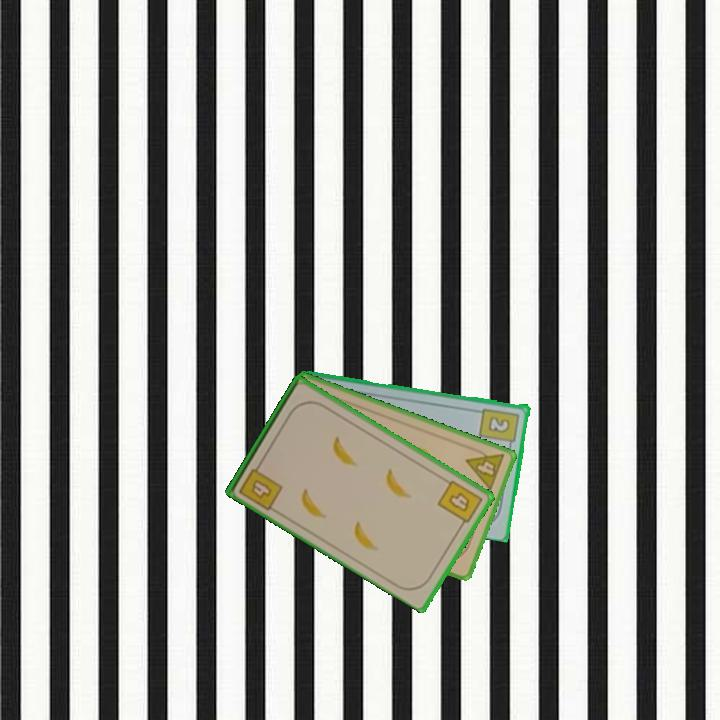2b: (476, 404, 522, 451)
4b: (434, 476, 485, 531), (235, 458, 286, 513)
4p: (462, 443, 507, 494)
